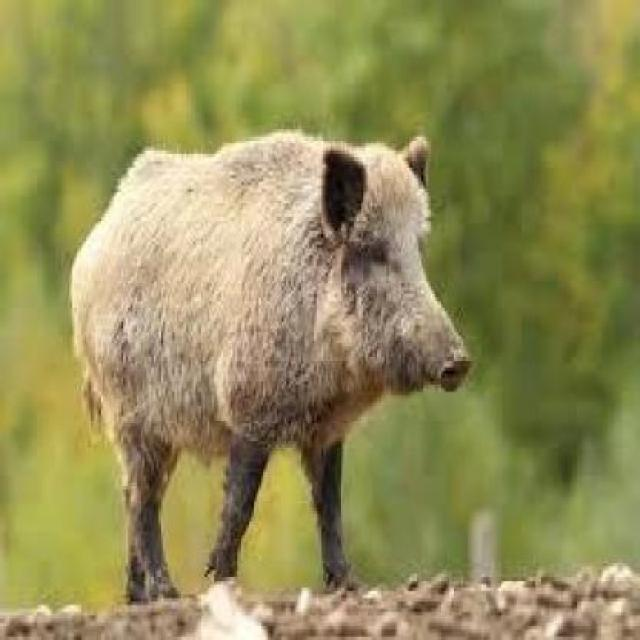wildboar: (70, 120, 472, 611)
